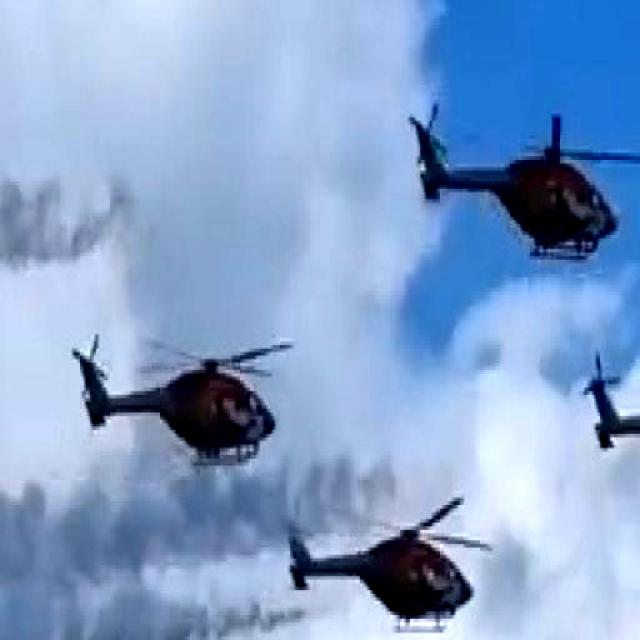drone: (409, 92, 640, 284), (64, 306, 301, 476), (278, 490, 496, 640), (585, 324, 640, 514)
